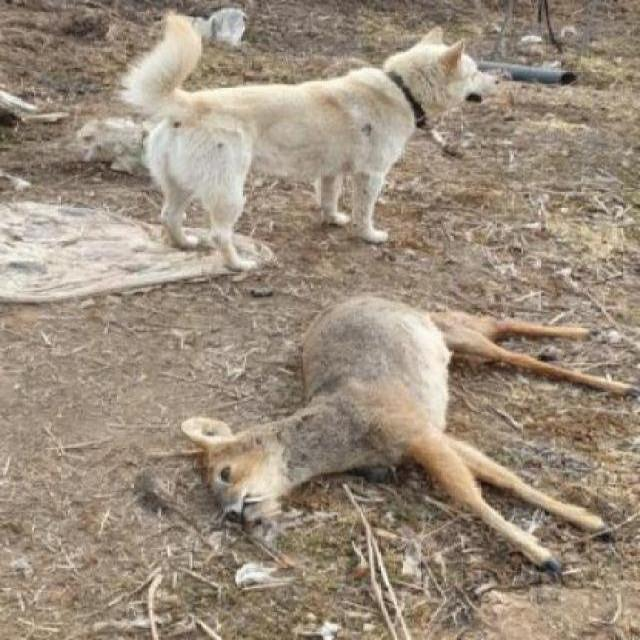deer: (170, 295, 638, 638)
